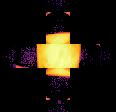earth: (37, 33, 81, 78)
